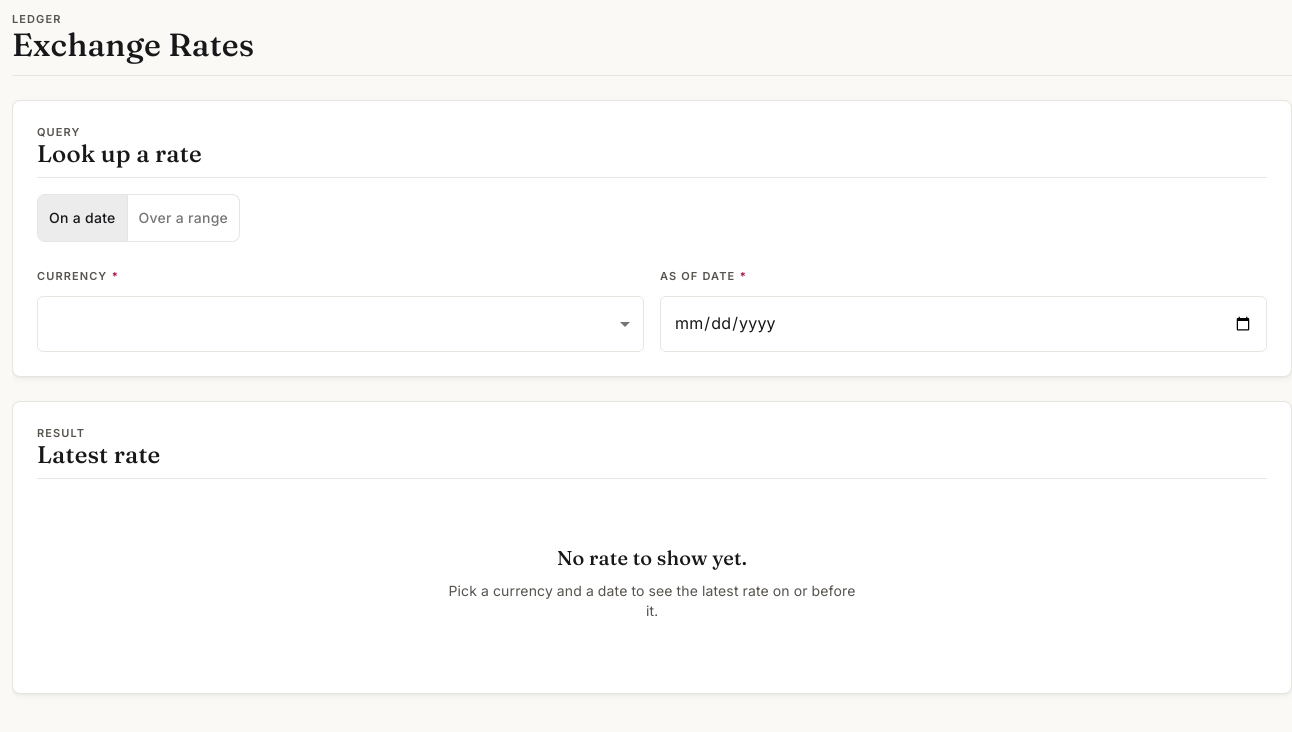
Test: ExchangeRatesPage › surfaces an error toast when the latest-rate query fails
Expected: the heading "Exchange Rates" is shown, [12,27,254,63]
Click the dropdown at (340, 324), box [37,296,644,352]
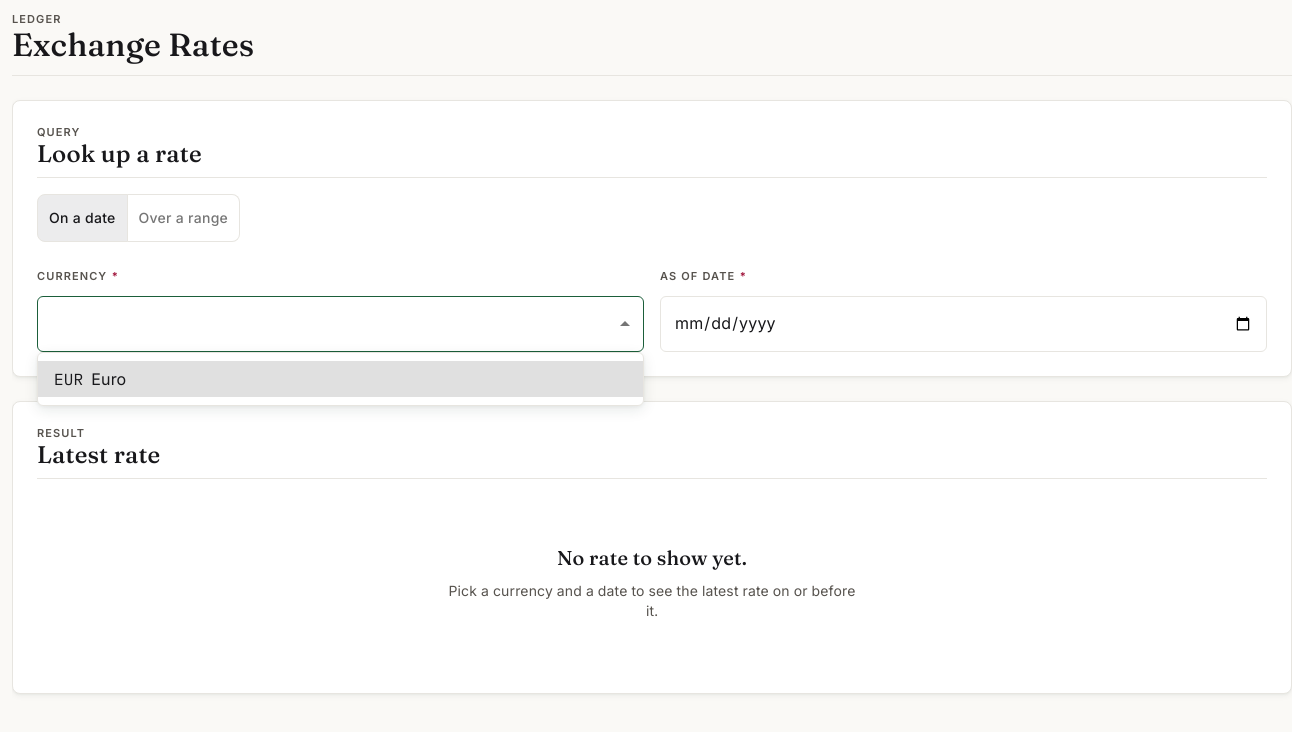
Click the option "EUR Euro" at (109, 379), box [38,361,643,397]
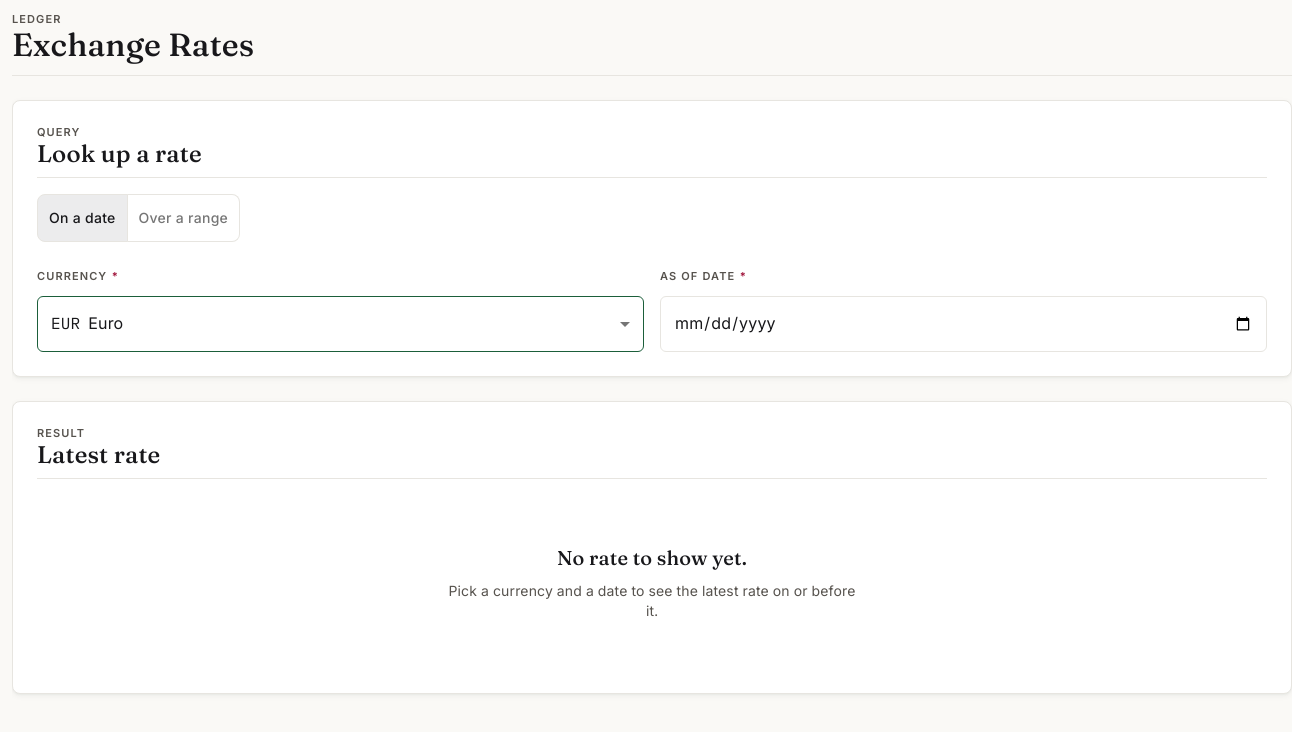
Type "2026-06-01" into the date field labelled "As of date*" at (964, 324), box [660,296,1267,352]
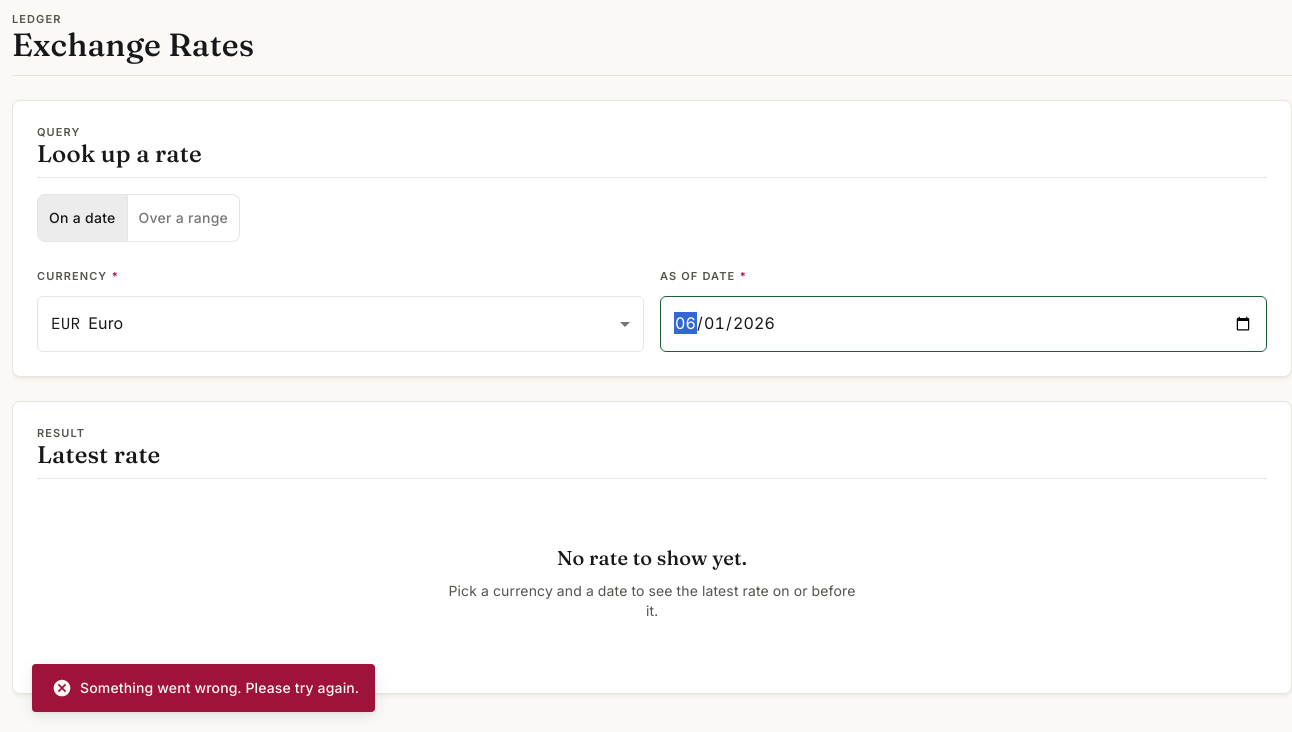
Expected: the text "Something went wrong. Please try again." is shown, [52,678,359,698]
